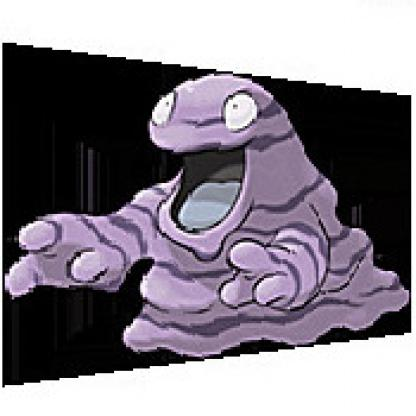Grimer: (5, 73, 414, 360)
